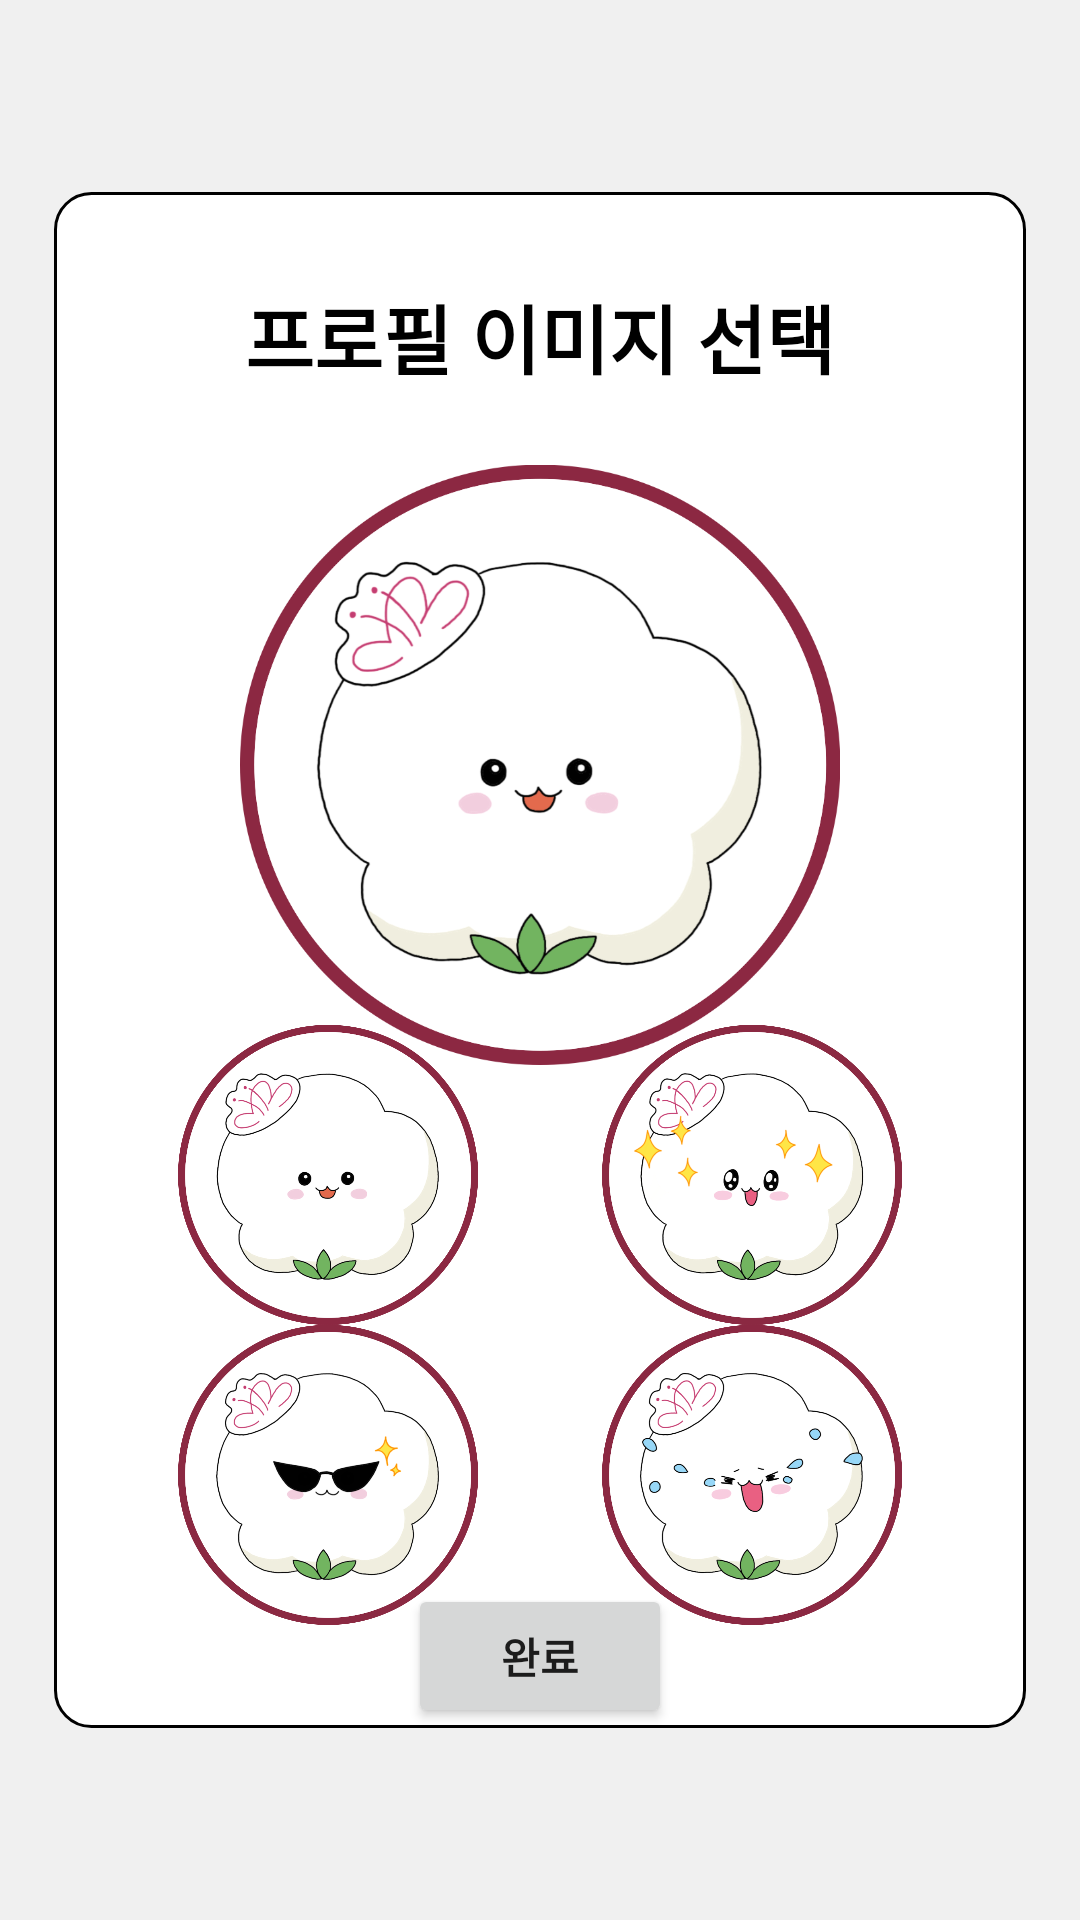

Icons on this 1080x1920 Android screen, each with the point to tap as [x,y]:
som kirakira: [752,1175]
som laugh: [752,1475]
som sunglass: [328,1475]
